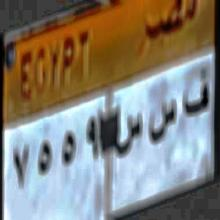5: (59, 126, 78, 177), (36, 135, 52, 184)
7: (9, 139, 32, 195)
9: (82, 110, 101, 172)
faa: (181, 68, 211, 122)
seen: (114, 105, 144, 163), (147, 95, 176, 149)
